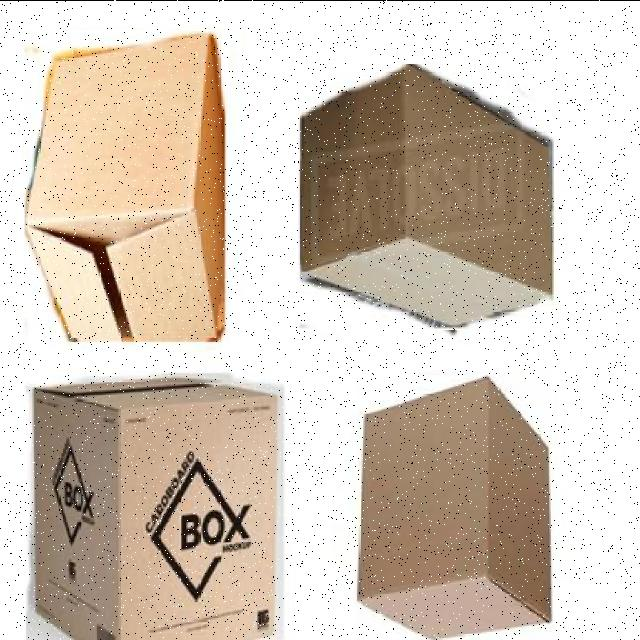defect: (24, 29, 230, 349)
normal: (295, 63, 568, 329), (28, 374, 286, 640), (354, 374, 554, 640)
